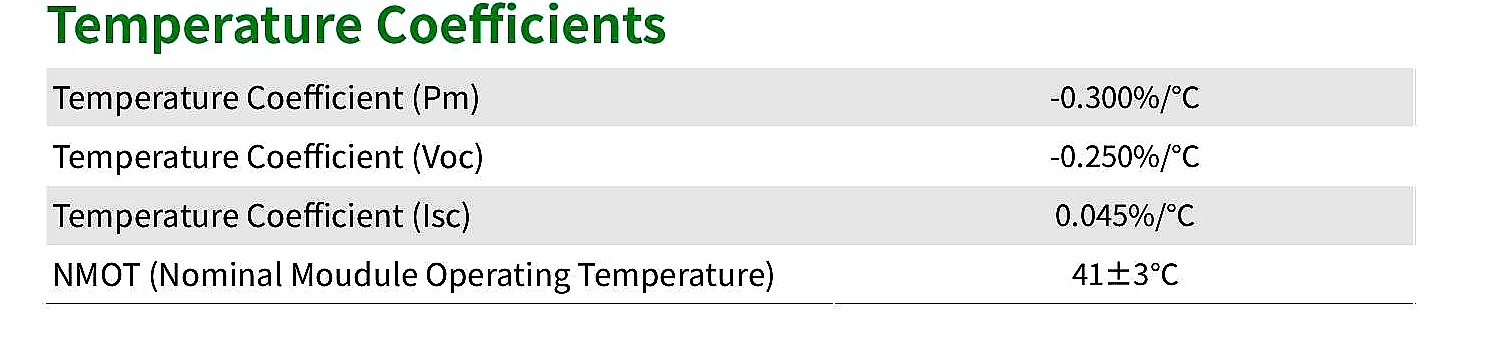table: (25, 59, 1429, 315)
table column: (37, 67, 919, 304), (923, 64, 1420, 304)
table name: (29, 1, 725, 60)
table row: (37, 185, 1415, 244), (37, 69, 1416, 125), (36, 129, 1416, 184), (37, 249, 1417, 303)
table row header: (35, 63, 927, 302)
